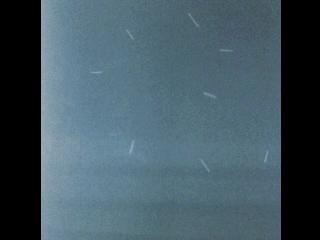scratch: (182, 7, 205, 33), (196, 153, 215, 179), (212, 42, 240, 59), (257, 144, 274, 170), (121, 24, 141, 46), (123, 135, 141, 157), (196, 88, 222, 102), (86, 66, 110, 79)
